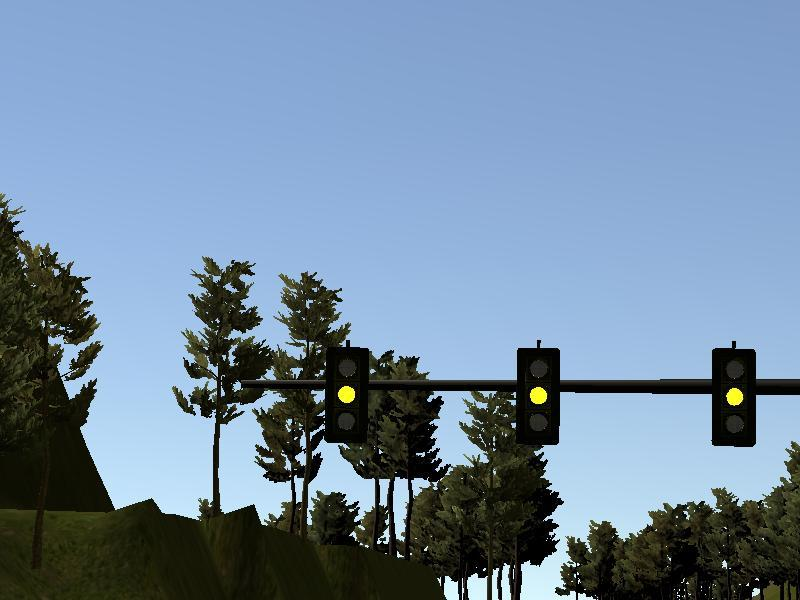Yellow: (711, 348, 756, 448), (516, 348, 561, 445), (325, 347, 369, 444)
